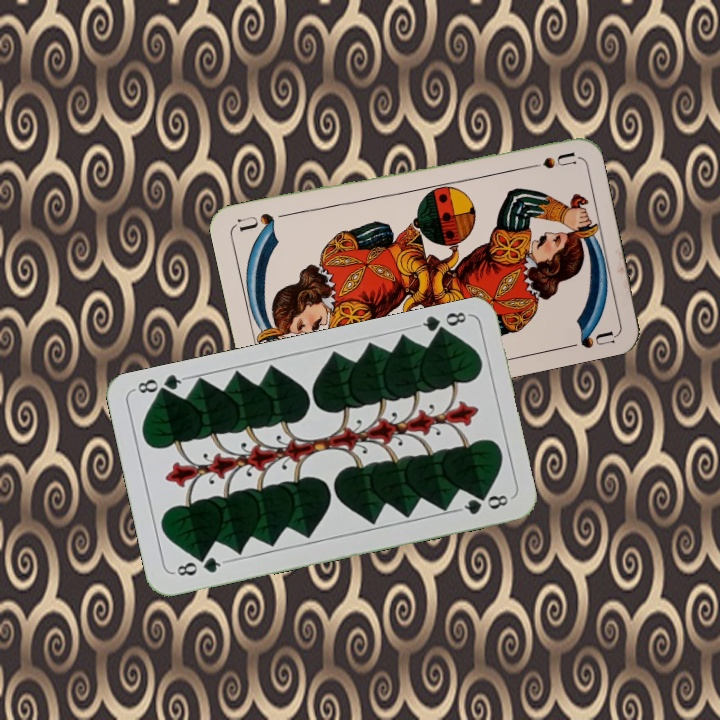G8: (413, 307, 471, 340), (170, 552, 228, 579)
SU: (518, 148, 577, 172)
